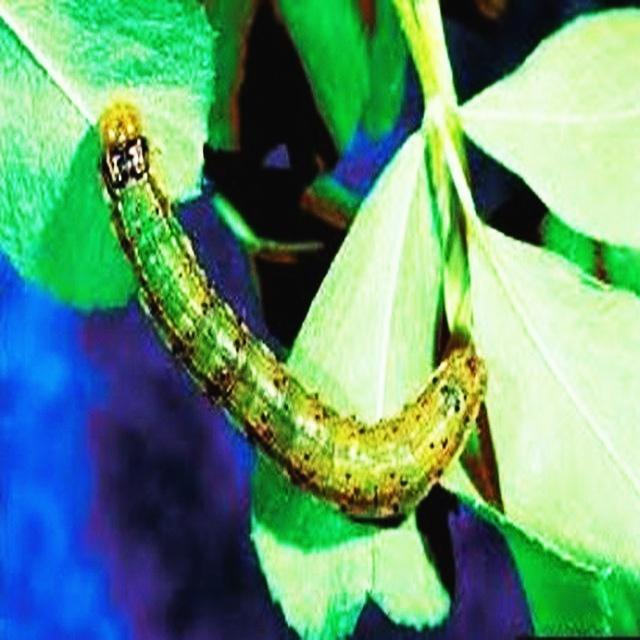gusano_cogollero: (95, 93, 488, 520)
